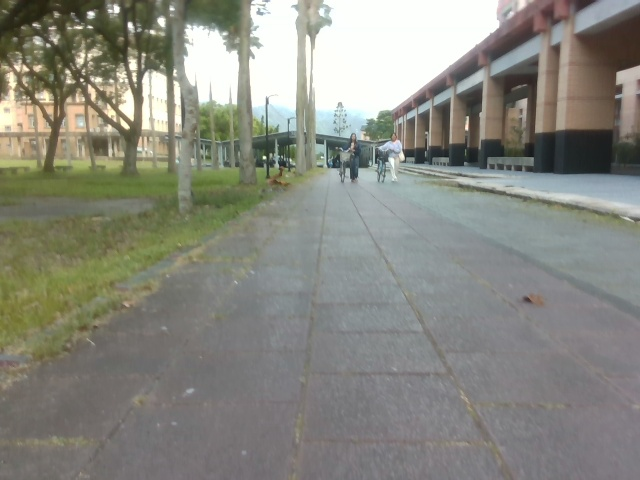grass: (0, 161, 325, 377), (0, 0, 259, 176), (169, 101, 295, 215)
road: (0, 169, 639, 479)
sidewalk: (399, 163, 639, 221), (0, 198, 145, 221)
